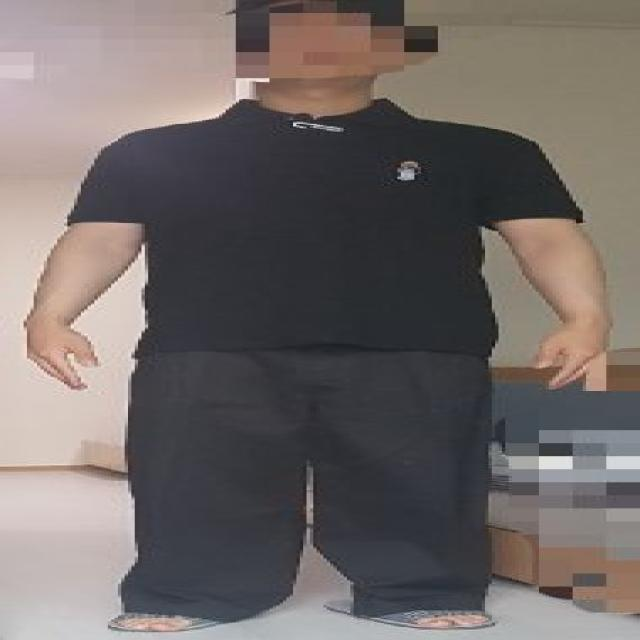shortsleeve: (57, 103, 574, 356)
slacks: (118, 344, 498, 617)
